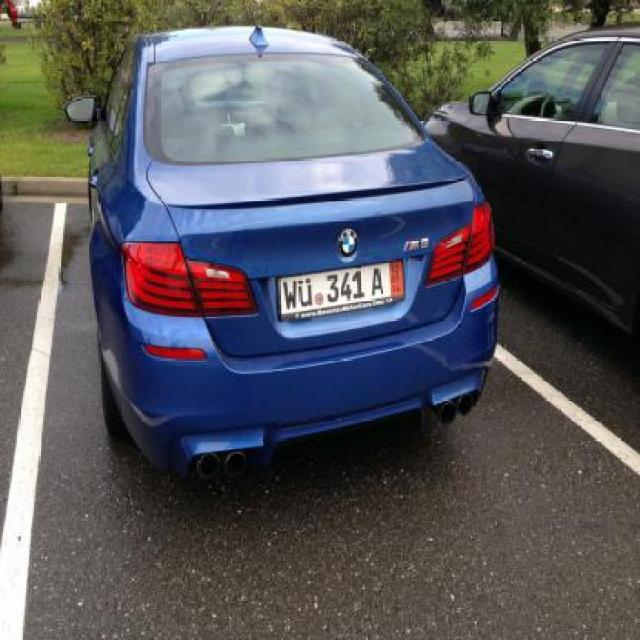License-Plates: (277, 257, 406, 322)
